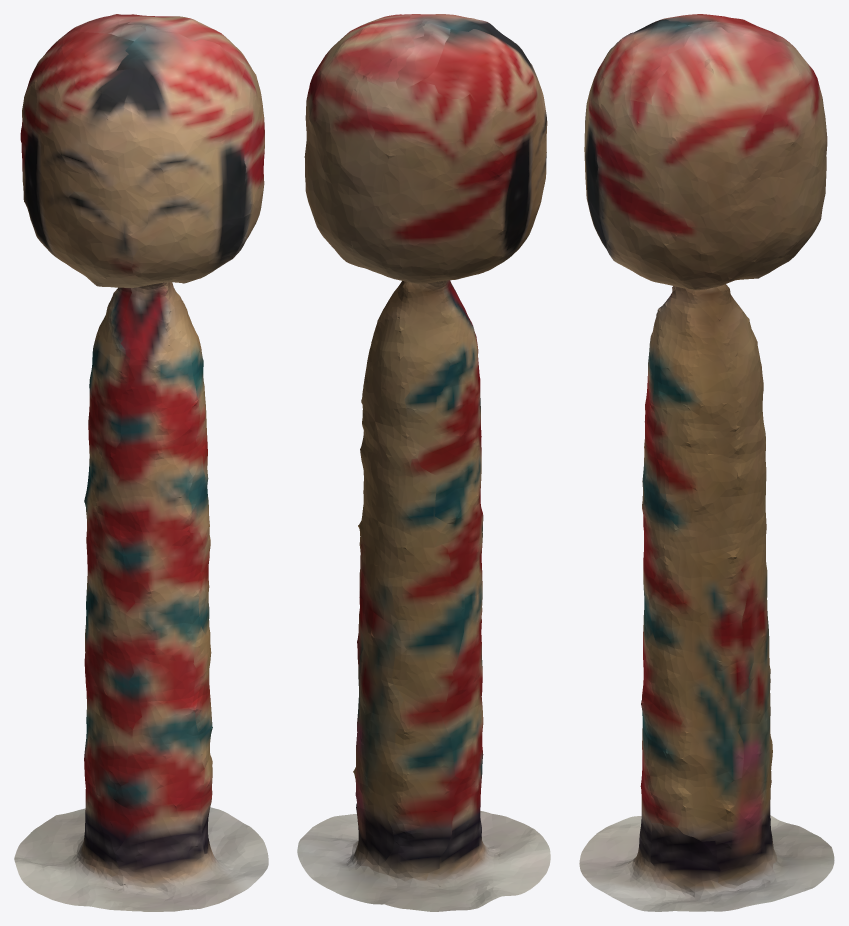
Rendered from kokeshi001.glb.
3 renders of one model, left to right at view 1: azimuth 30°, elevation 25°; view 2: azimuth 150°, elevation 25°; view 3: azimuth 270°, elevation 25°, orthographic.
Parts seen in each view (by area): view 1: mesh; view 2: mesh; view 3: mesh.
Part boxes in pixels (x1,y1,x2,y2): mesh: (14, 14, 268, 911); mesh: (297, 14, 550, 911); mesh: (579, 14, 834, 911).
Bounding box in the file's own units: 0.0738 × 0.2692 × 0.074.
Materials: 1 (1 with a texture image).
